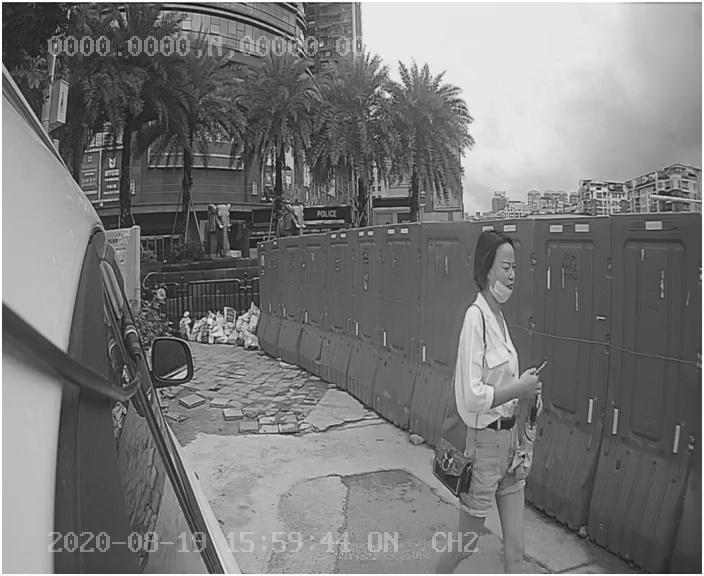person: (406, 224, 574, 531)
